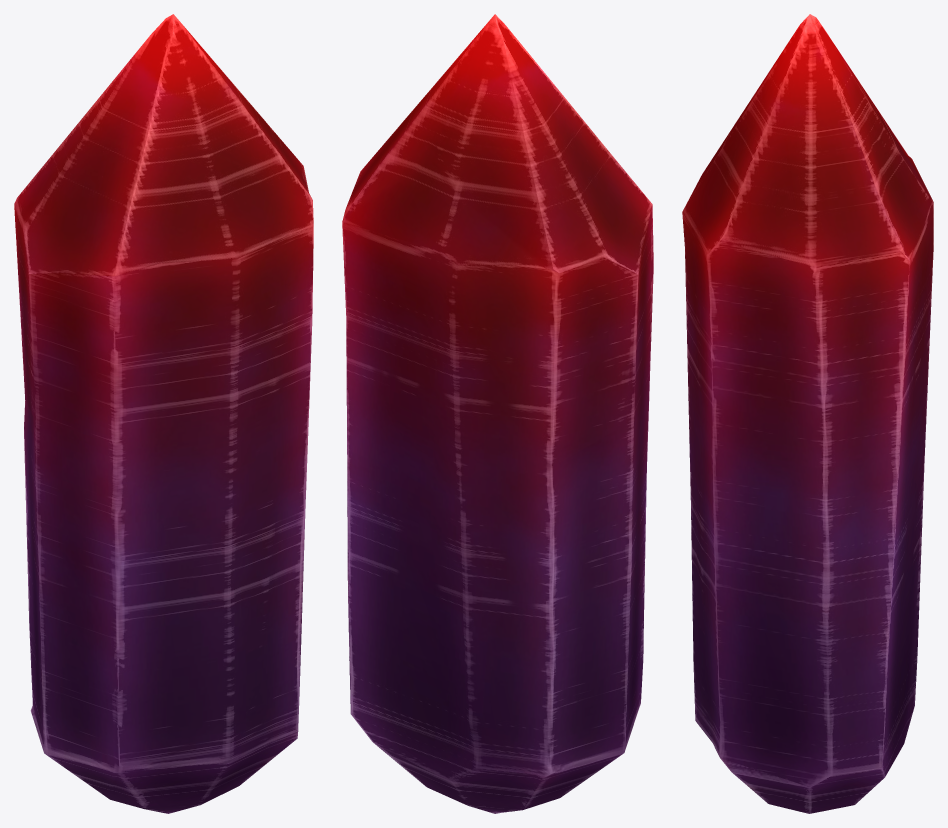
File: sunset.gltf
3 renders of one model, left to right at view 1: azimuth 30°, elevation 25°; view 2: azimuth 150°, elevation 25°; view 3: azimuth 270°, elevation 25°, orthographic.
Parts seen in each view (by area): view 1: defaultMaterial; view 2: defaultMaterial; view 3: defaultMaterial.
Part boxes in pixels (box(x1,y1,x2,y2)): defaultMaterial: box(14, 14, 313, 813); defaultMaterial: box(342, 14, 653, 813); defaultMaterial: box(682, 14, 933, 813).
Bounding box in the file's own units: 0.7232 × 2 × 0.5703.
1 material, 1 textured.
